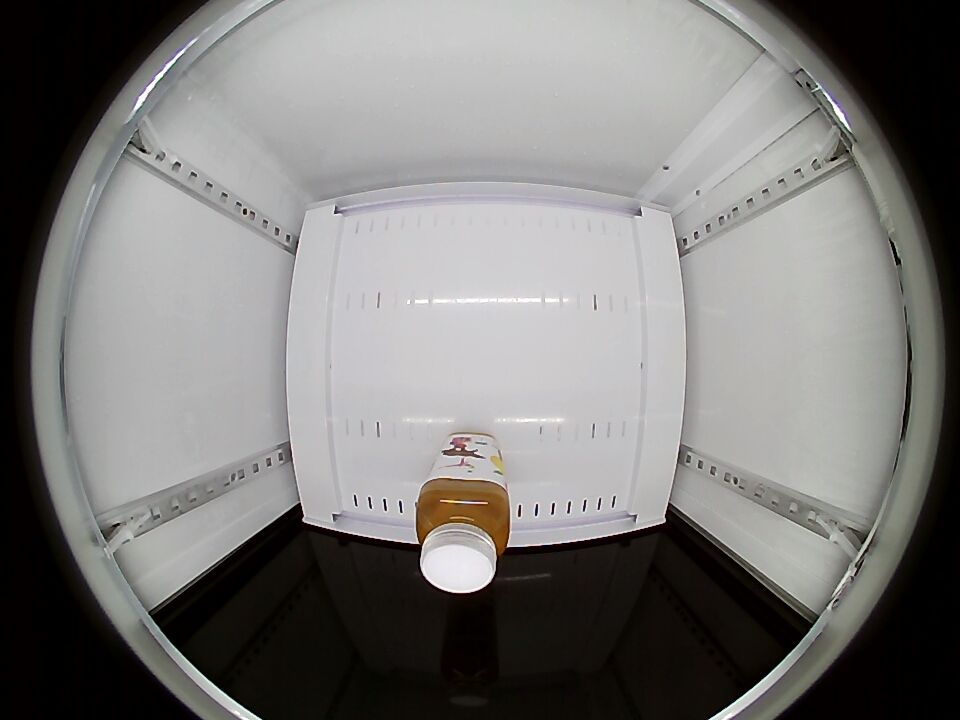chapai: (415, 475, 512, 593)
